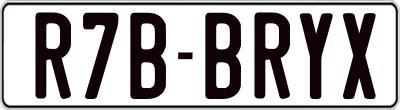7: (83, 11, 118, 102)
B: (128, 12, 167, 103), (205, 12, 241, 102)
R: (33, 10, 72, 97), (252, 11, 288, 99)
X: (343, 11, 382, 97)
Y: (299, 10, 337, 99)
